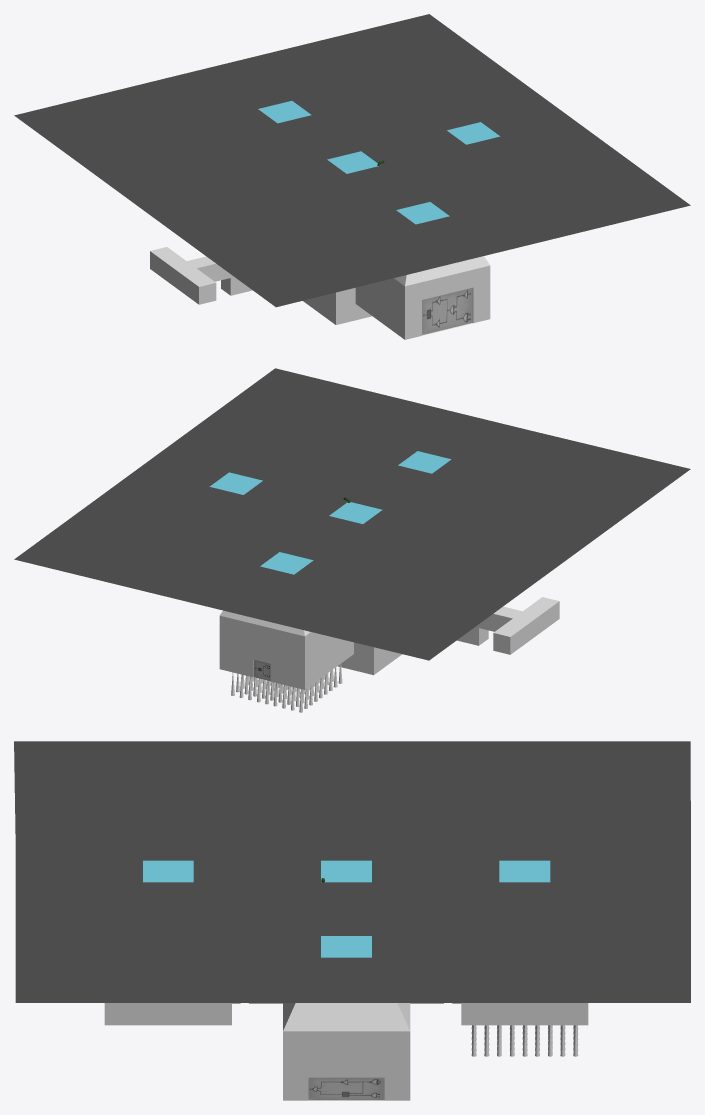
File: Temple.dae
3 renders of one model, top to bottom at view 1: azimuth 30°, elevation 25°; view 2: azimuth 150°, elevation 25°; view 3: azimuth 270°, elevation 25°, orthographic. The views are drawn at different scales.
Parts seen in each view (by area): view 1: MainTemple; view 2: MainTemple, MainTemple.006; view 3: MainTemple, MainTemple.006.
Boxes of the visible parts, bbox=[...] form: MainTemple: bbox=[14, 14, 690, 339]; MainTemple: bbox=[14, 368, 690, 689]; MainTemple.006: bbox=[231, 664, 342, 712]; MainTemple: bbox=[14, 741, 690, 1100]; MainTemple.006: bbox=[471, 1025, 578, 1056].
Size of the model in its own units: 48.65 by 53.17 by 15.42.
